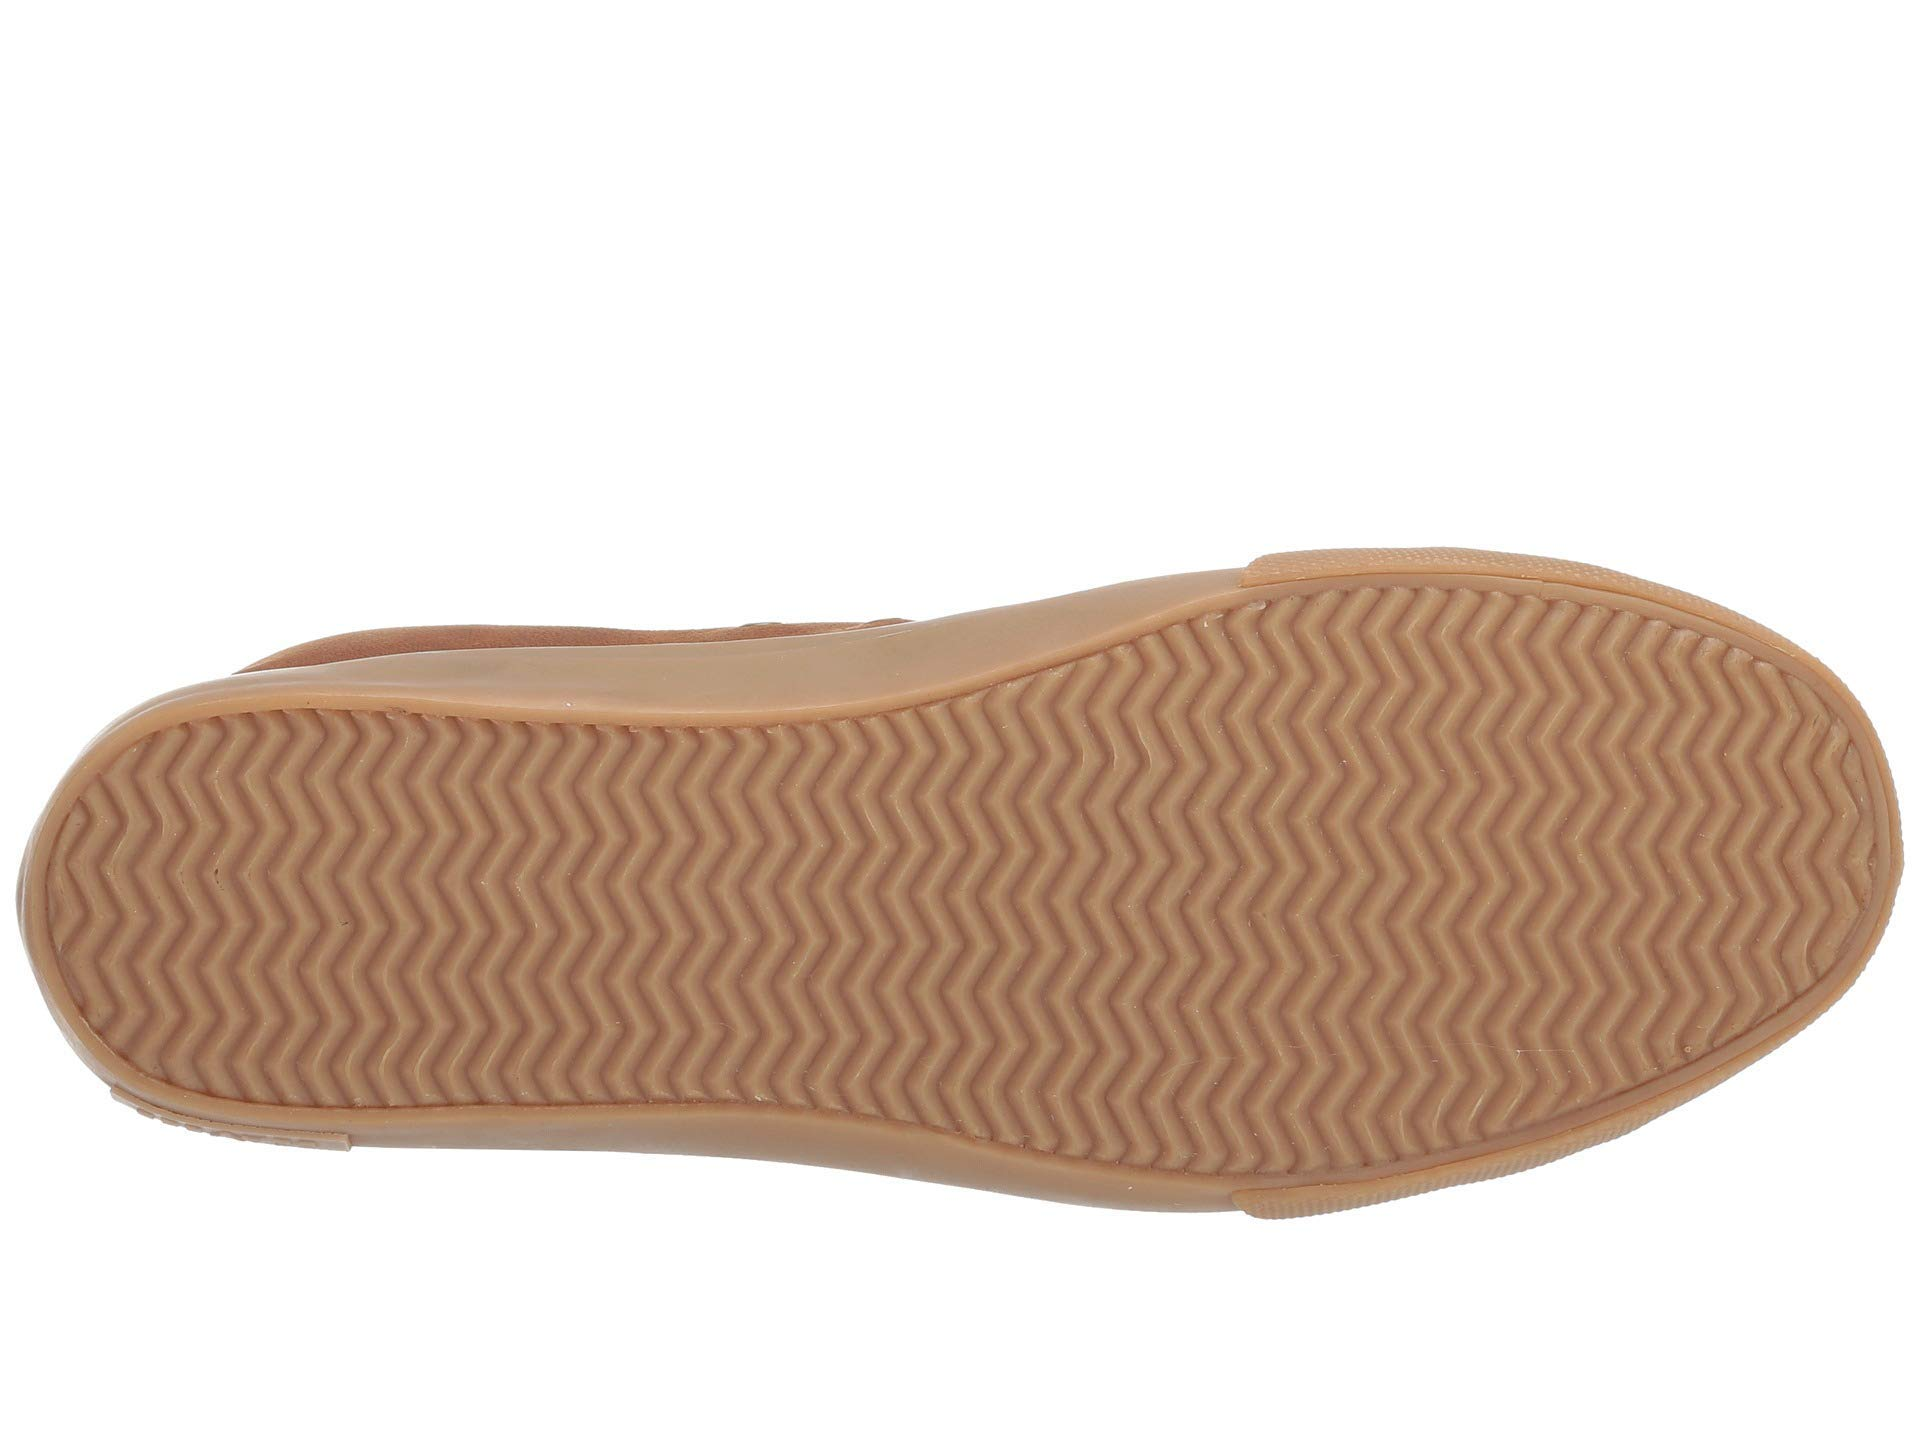chevron: (206, 722, 1677, 1039)
